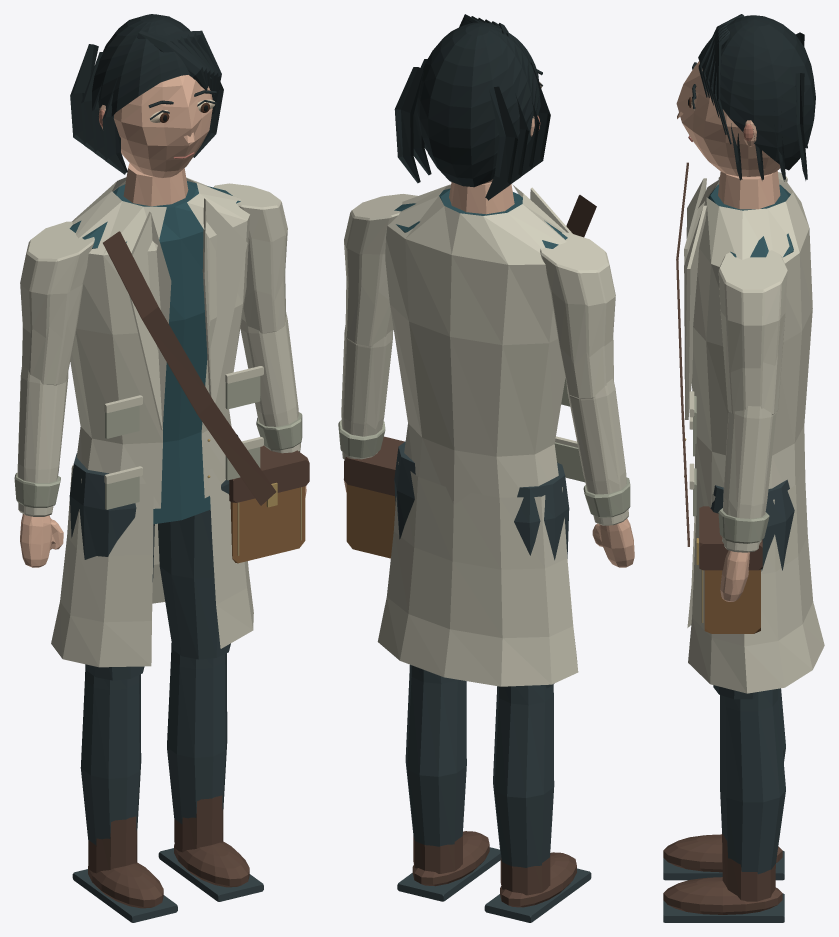
3 renders of one model, left to right at view 1: azimuth 30°, elevation 25°; view 2: azimuth 150°, elevation 25°; view 3: azimuth 270°, elevation 25°, orthographic.
Parts seen in each view (by area): view 1: Chest, Head, CoatHem, Shin_R, Shin_L, Arm_L, Thigh_R, Satchel, Fore_L, Arm_R, Foot_R, Foot_L (+3 smaller); view 2: Chest, CoatHem, Head, Shin_L, Shin_R, Arm_L, Arm_R, Fore_L, Fore_R, Satchel, Foot_L, Foot_R (+3 smaller); view 3: Chest, Head, CoatHem, Shin_R, Arm_R, Fore_R, Foot_R, Satchel, Foot_L, Thigh_R, Hand_R.
Boxes of the visible parts, x1,y1,x2,y2 form: Chest: [69, 163, 276, 524]; Head: [70, 14, 223, 178]; CoatHem: [51, 465, 253, 667]; Shin_R: [167, 643, 227, 823]; Shin_L: [80, 664, 141, 845]; Arm_L: [20, 221, 94, 385]; Thigh_R: [158, 435, 238, 659]; Satchel: [229, 445, 309, 563]; Fore_L: [14, 366, 68, 516]; Arm_R: [213, 183, 287, 333]; Foot_R: [158, 795, 263, 901]; Foot_L: [72, 816, 177, 922]; Chest: [385, 182, 596, 504]; CoatHem: [377, 462, 578, 686]; Head: [394, 14, 550, 200]; Shin_L: [493, 684, 554, 867]; Shin_R: [405, 664, 466, 846]; Arm_L: [540, 232, 615, 399]; Arm_R: [344, 194, 417, 346]; Fore_L: [566, 378, 630, 525]; Fore_R: [338, 324, 392, 459]; Satchel: [344, 436, 404, 558]; Foot_L: [484, 852, 591, 922]; Foot_R: [397, 831, 500, 901]; Chest: [676, 162, 812, 546]; Head: [676, 14, 815, 181]; CoatHem: [687, 470, 824, 693]; Shin_R: [720, 689, 785, 874]; Arm_R: [718, 250, 787, 414]; Fore_R: [718, 406, 776, 552]; Foot_R: [663, 833, 784, 922]; Satchel: [696, 506, 762, 633]; Foot_L: [663, 834, 784, 880]; Thigh_R: [710, 479, 794, 699]; Hand_R: [720, 550, 749, 601].
Size of the model in its own units: 0.5775 by 1.66 by 0.2793.
